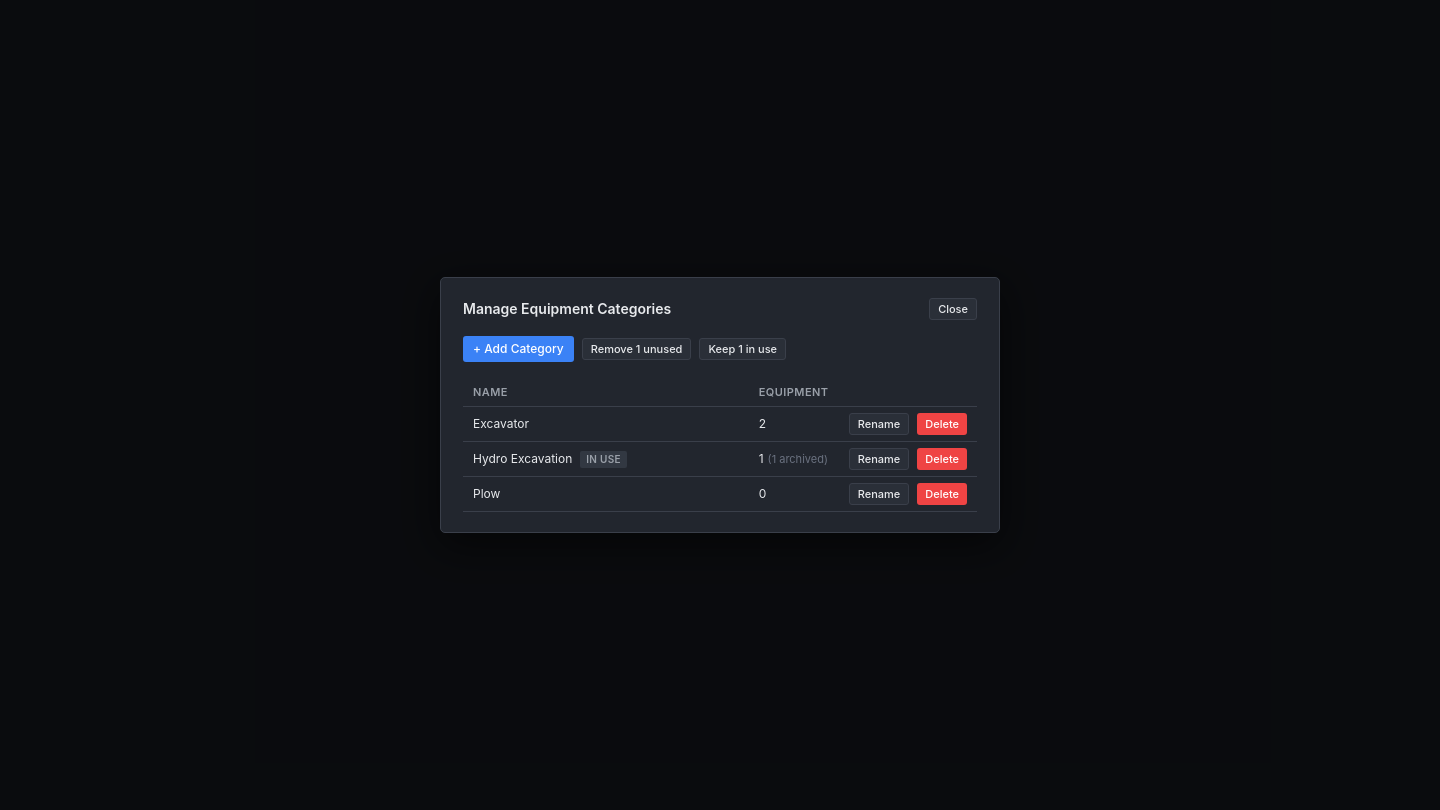
Test: adding a category › refuses a duplicate before it reaches the backend
Step 1. Click the button "+ Add Category" → [518, 349], box 463,336 -> 574,362
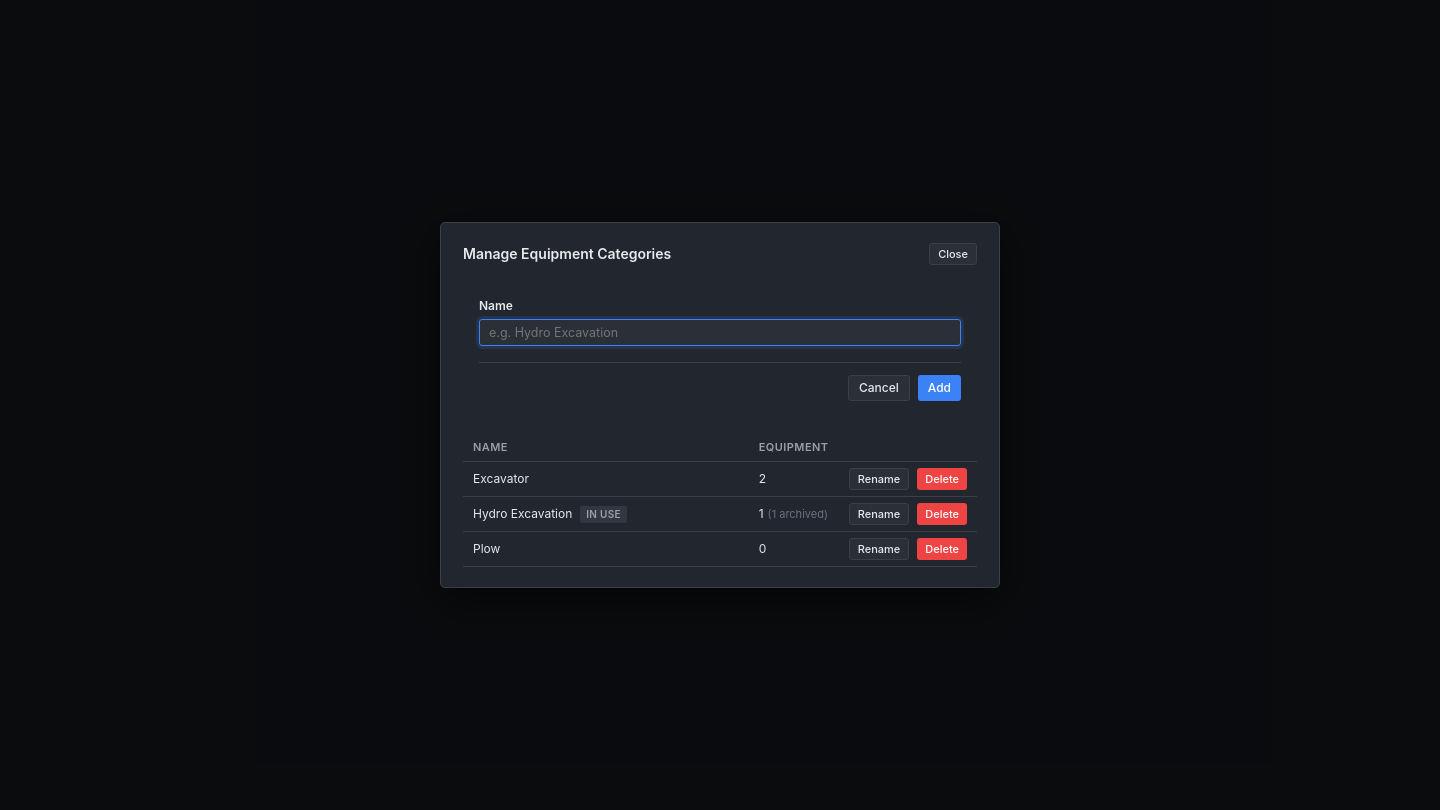
Step 2. Type "excavator" into the field labelled "Name" → [720, 332], box 479,319 -> 961,346
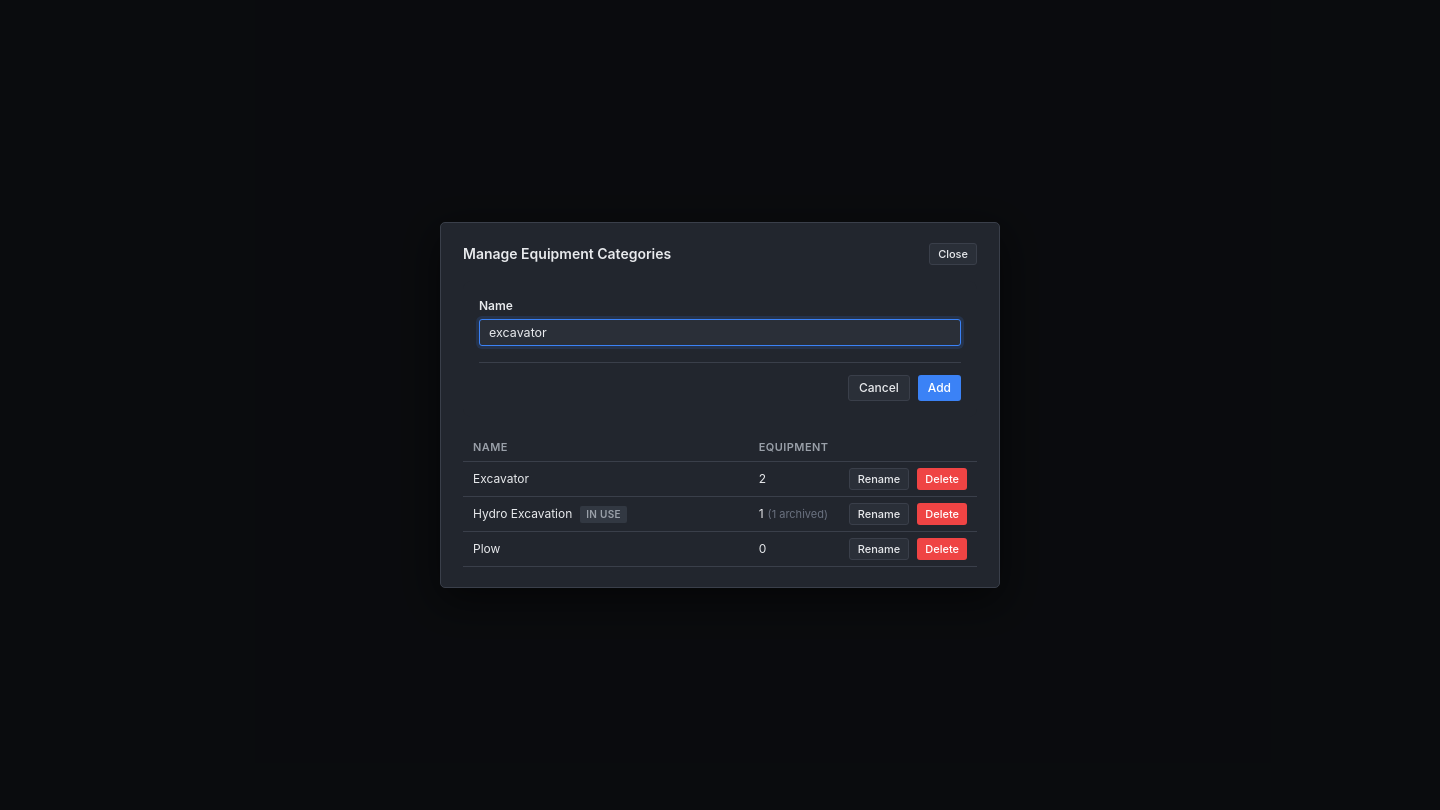
Step 3. Click the button "Add" → [939, 388], box 918,375 -> 961,401
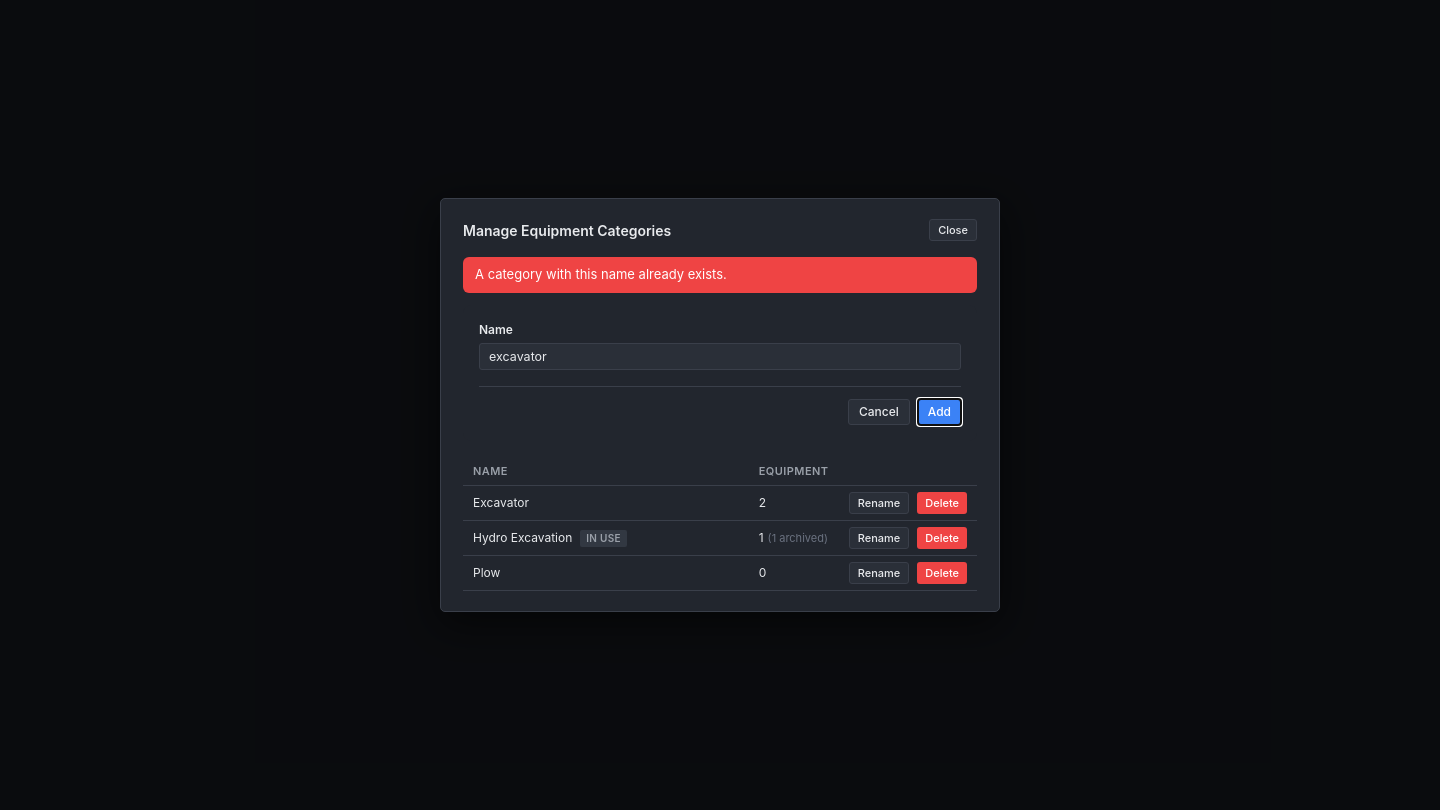
Result: the text "A category with this name already exists." is shown at 463,257 -> 977,292
